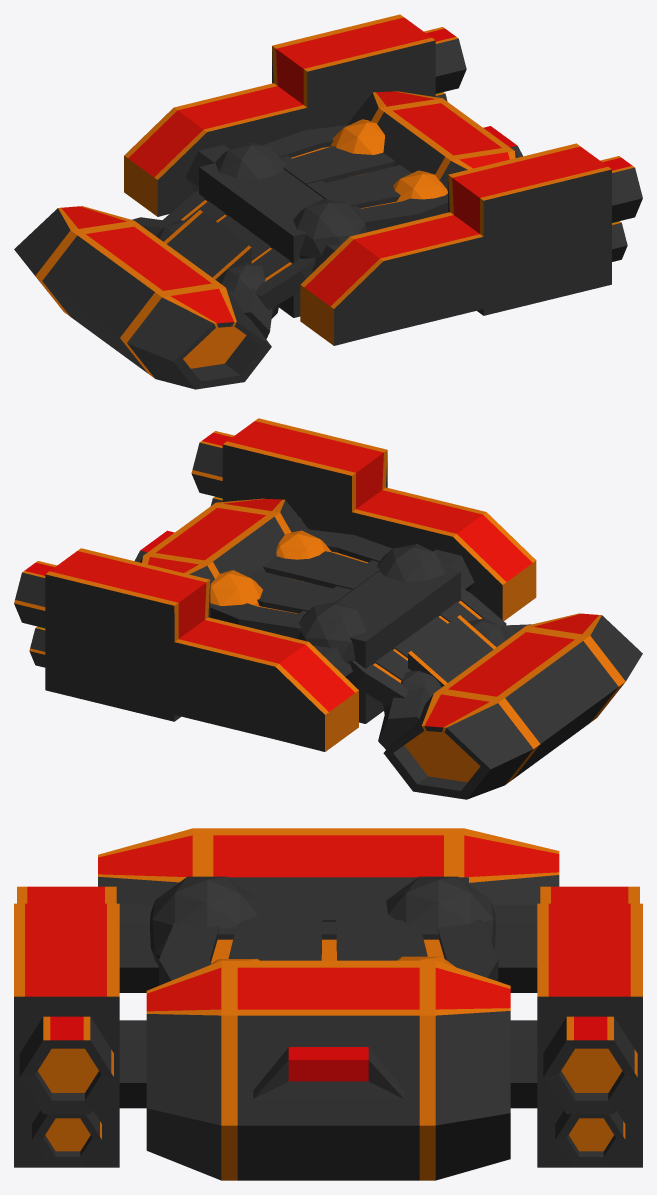
Rendered from mob4.fbx.
The picture shows the model from 3 angles, top to bottom: view 1: azimuth 30°, elevation 25°; view 2: azimuth 150°, elevation 25°; view 3: azimuth 270°, elevation 25°; orthographic projection. The views are drawn at different scales.
Visible parts, largest first — view 1: Cube.003, Cylinder.011, Cube.007, Cylinder, Cube.002, Cube.006, Cube.001, Icosphere.001, Cube.005, Icosphere.003, Cylinder.002, Cylinder.008 (+6 smaller); view 2: Cube.007, Cylinder.011, Cube.003, Cube.002, Cylinder, Cube.006, Cube.001, Icosphere.003, Cube.004, Icosphere.001, Cylinder.002, Cylinder.008 (+8 smaller); view 3: Cylinder, Cylinder.011, Cube.007, Cube.003, Cube.002, Cylinder.008, Cylinder.002, Cube.006, Cube, Icosphere.001, Icosphere.003, Cylinder.007 (+5 smaller).
Boxes of the visible parts, box(x1,y1,x2,y2) form: Cube.003: box(300, 143, 611, 345); Cylinder.011: box(14, 206, 271, 389); Cube.007: box(124, 14, 435, 216); Cylinder: box(347, 91, 517, 191); Cube.002: box(263, 124, 447, 231); Cube.006: box(199, 155, 360, 317); Cube.001: box(164, 210, 251, 280); Icosphere.001: box(293, 199, 367, 259); Cube.005: box(234, 227, 315, 309); Icosphere.003: box(215, 142, 285, 179); Cylinder.002: box(424, 27, 466, 93); Cylinder.008: box(600, 156, 642, 222); Cube.007: box(45, 548, 358, 751); Cylinder.011: box(383, 613, 642, 799); Cube.003: box(222, 418, 536, 620); Cube.002: box(210, 528, 392, 638); Cylinder: box(140, 498, 308, 583); Cube.006: box(299, 560, 460, 723); Cube.001: box(408, 615, 496, 686); Icosphere.003: box(297, 601, 369, 664); Cube.004: box(348, 626, 433, 707); Icosphere.001: box(377, 544, 451, 581); Cylinder.002: box(14, 561, 56, 628); Cylinder.008: box(191, 431, 234, 498); Cylinder: box(146, 960, 510, 1180); Cylinder.011: box(98, 828, 559, 904); Cube.007: box(537, 886, 642, 1167); Cube.003: box(14, 886, 119, 1167); Cube.002: box(159, 920, 498, 985); Cylinder.008: box(19, 1016, 113, 1114); Cylinder.002: box(543, 1016, 637, 1114); Cube.006: box(217, 877, 468, 939); Cube: box(253, 1047, 404, 1099); Icosphere.001: box(149, 876, 259, 965); Icosphere.003: box(386, 876, 495, 949); Cylinder.007: box(492, 905, 537, 992).
Size of the model in its own units: 714 by 242 by 572.
